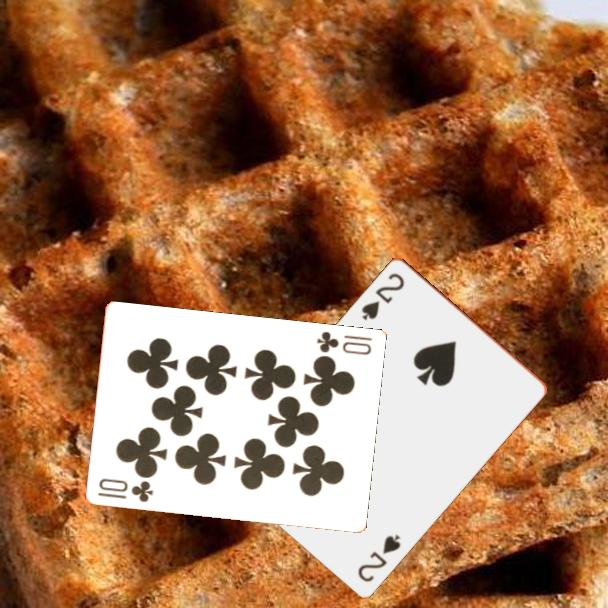c10: (94, 475, 156, 505), (313, 328, 375, 358)
s02: (354, 530, 404, 584), (358, 269, 407, 323)
